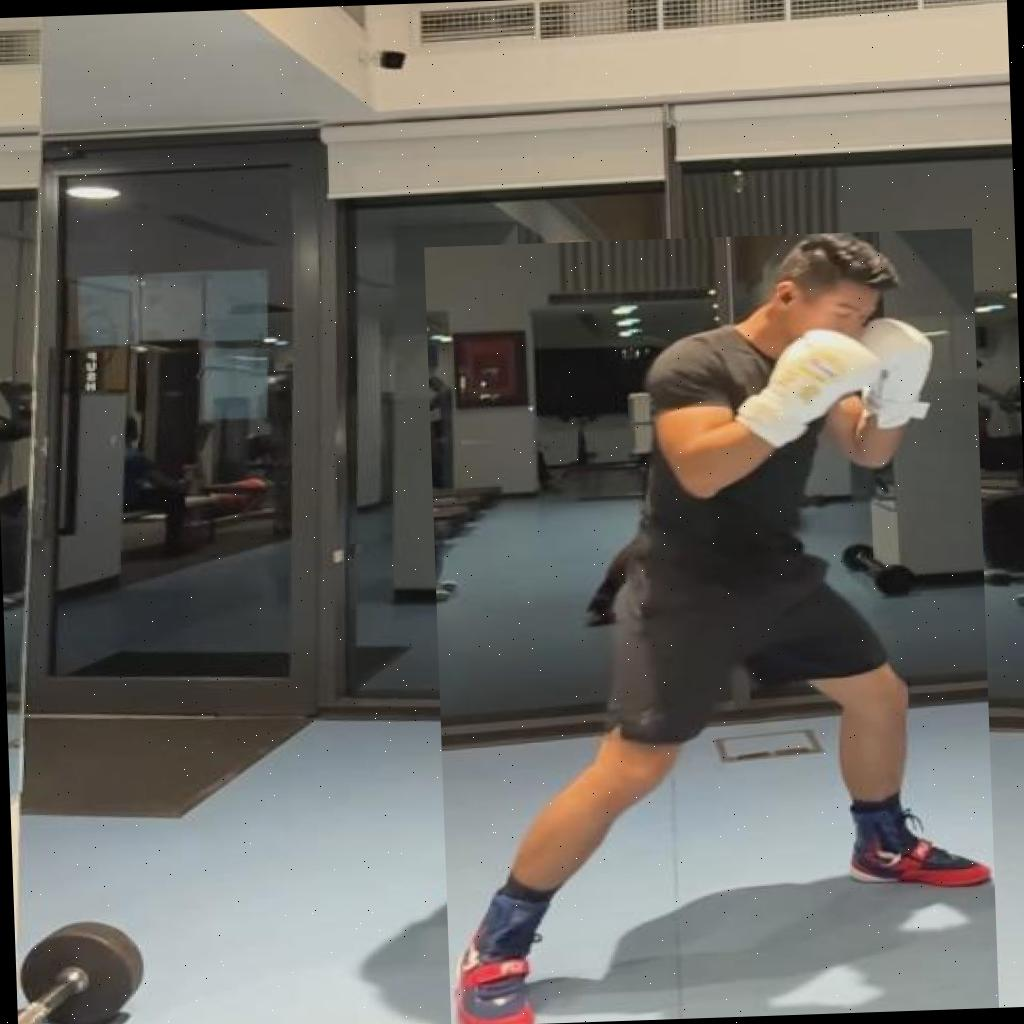no punch: (424, 227, 999, 1024)
